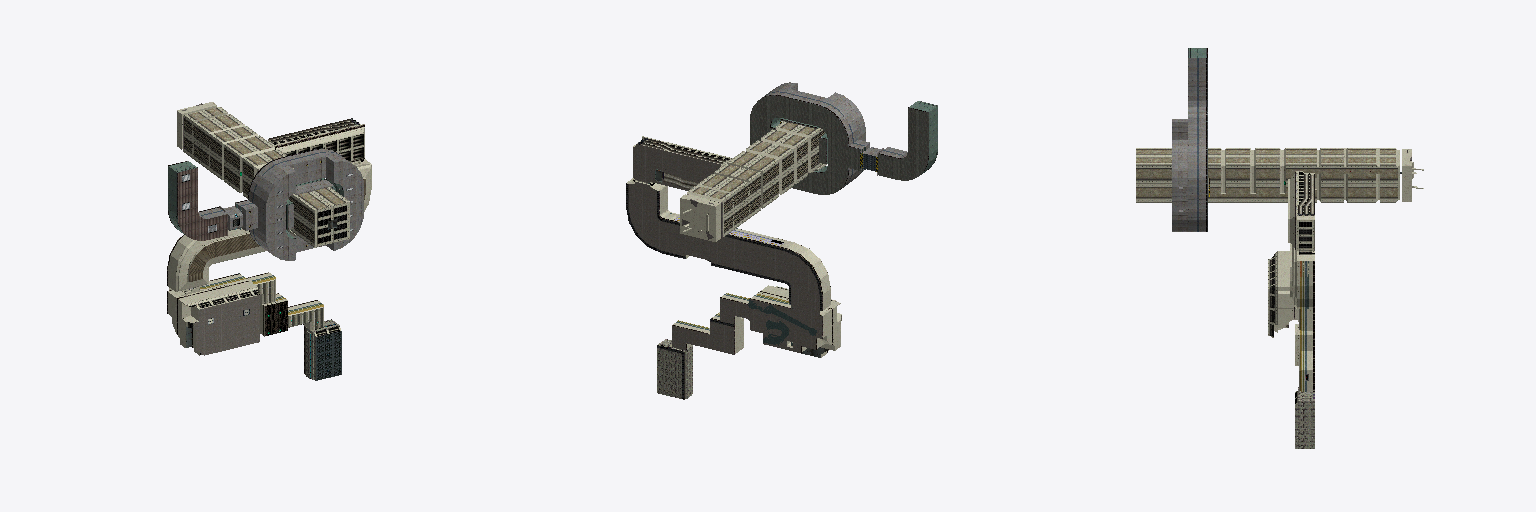
3 views of the same model, side by side, from view 1: azimuth 30°, elevation 25°; view 2: azimuth 150°, elevation 25°; view 3: azimuth 270°, elevation 25° (orthographic).
Parts seen in each view (by area): view 1: BSP_Object.model_0; view 2: BSP_Object.model_0; view 3: BSP_Object.model_0.
Boxes of the visible parts, <box> form: BSP_Object.model_0: <box>167,102,371,380</box>; BSP_Object.model_0: <box>626,82,937,399</box>; BSP_Object.model_0: <box>1136,48,1411,448</box>.
Size of the model in its own units: 2336 by 2640 by 2342.
Materials: 97 (96 with a texture image).